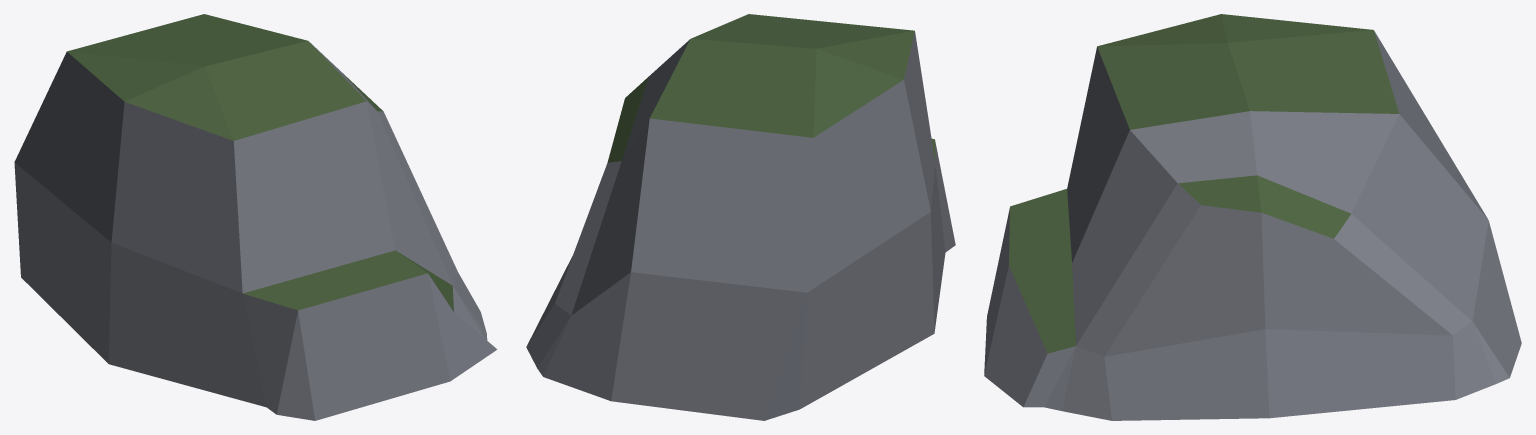
Rendered from Rock_Moss_5.gltf.
3 views of the same model, side by side, from view 1: azimuth 30°, elevation 25°; view 2: azimuth 150°, elevation 25°; view 3: azimuth 270°, elevation 25° (orthographic). The views are drawn at different scales.
Parts seen in each view (by area): view 1: Rock_Moss_5; view 2: Rock_Moss_5; view 3: Rock_Moss_5.
Part boxes in pixels (bbox=[...]): Rock_Moss_5: bbox=[14, 14, 496, 420]; Rock_Moss_5: bbox=[526, 14, 955, 420]; Rock_Moss_5: bbox=[984, 14, 1521, 420].
Size of the model in its own units: 0.6632 by 0.5767 by 0.9148.
